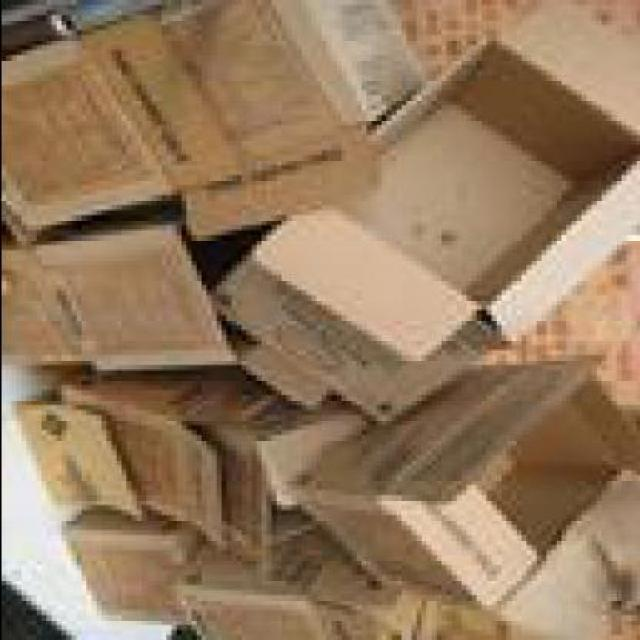CARDBOARD: (223, 0, 638, 412), (225, 0, 634, 415), (300, 350, 638, 596), (86, 0, 426, 231), (4, 36, 164, 236), (60, 370, 229, 545), (55, 215, 240, 370), (55, 500, 210, 615), (175, 520, 330, 635), (20, 390, 135, 530), (5, 235, 90, 360), (310, 560, 435, 635)
